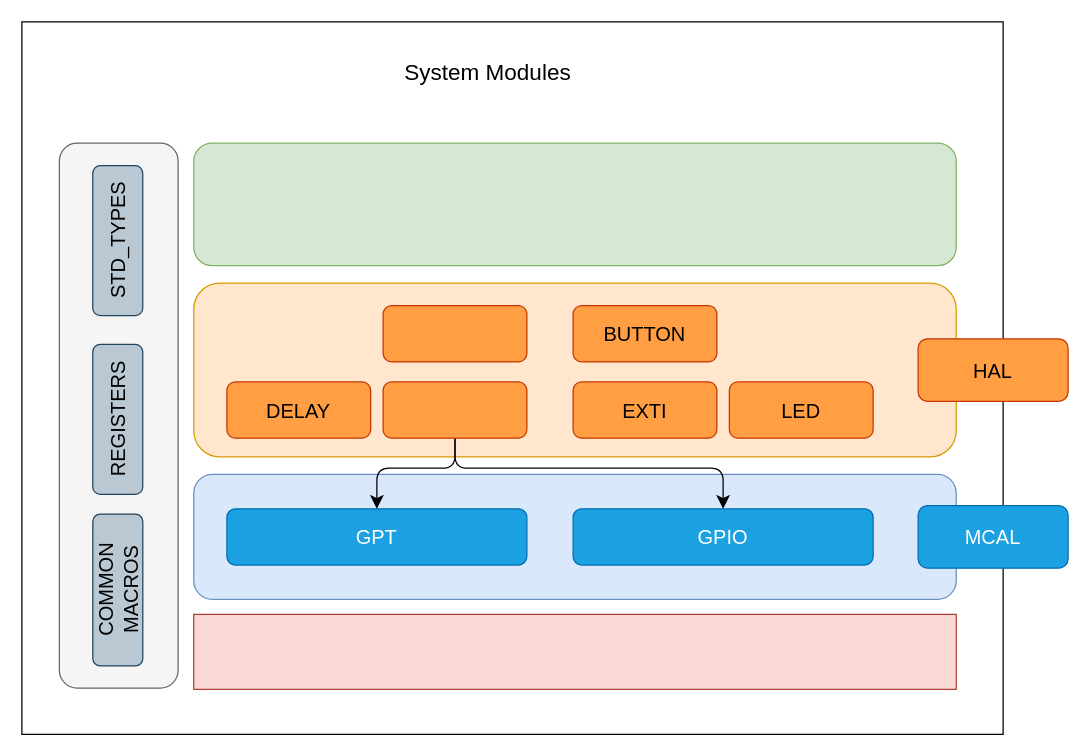
Some shapes in this 1090 by 756 pixel diagram are drawn without their labels. Each missing label, with the centre of its shape:
"Application Layer" goes at point (574, 204).
"DCM" goes at point (454, 333).
"Microcontroller" goes at point (574, 651).
"PWM" goes at point (454, 409).
